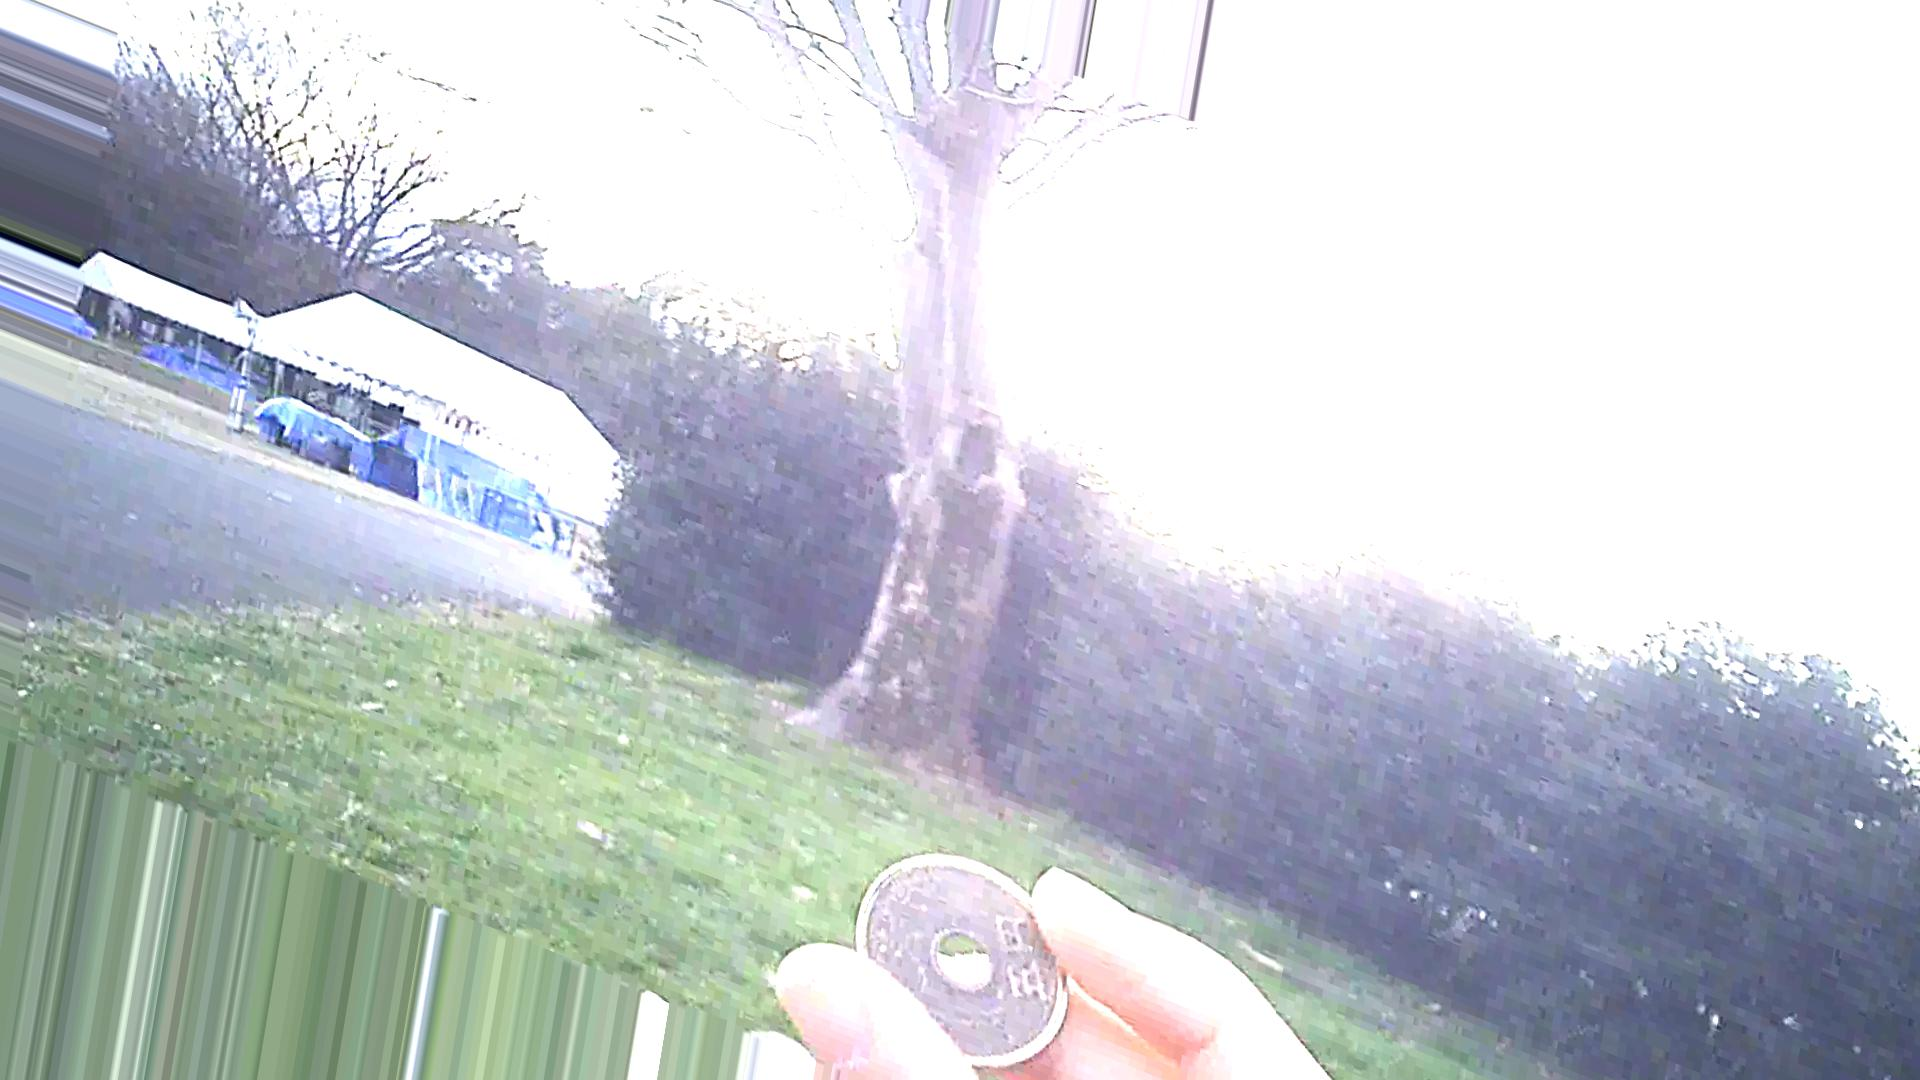5 Yen: (855, 847, 1073, 1067)
